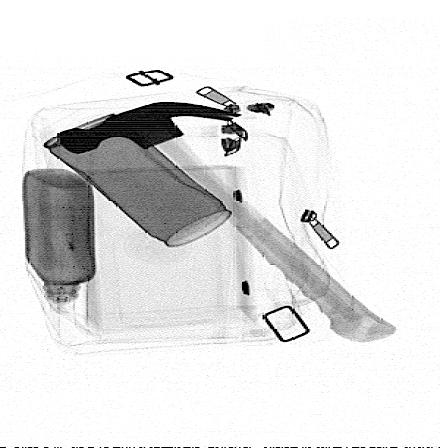Hammer: (56, 102, 397, 343)
